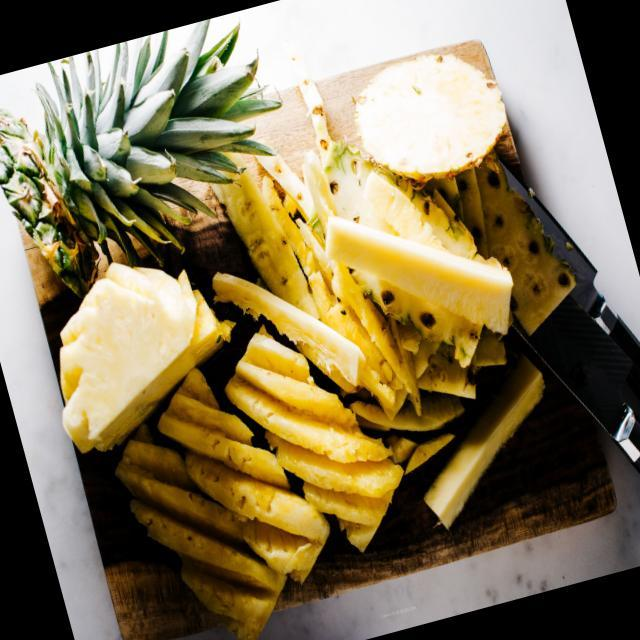PINEAPLE: (237, 144, 461, 432), (318, 174, 532, 370), (242, 321, 402, 557), (149, 392, 334, 594), (27, 242, 221, 430), (351, 41, 511, 199)
